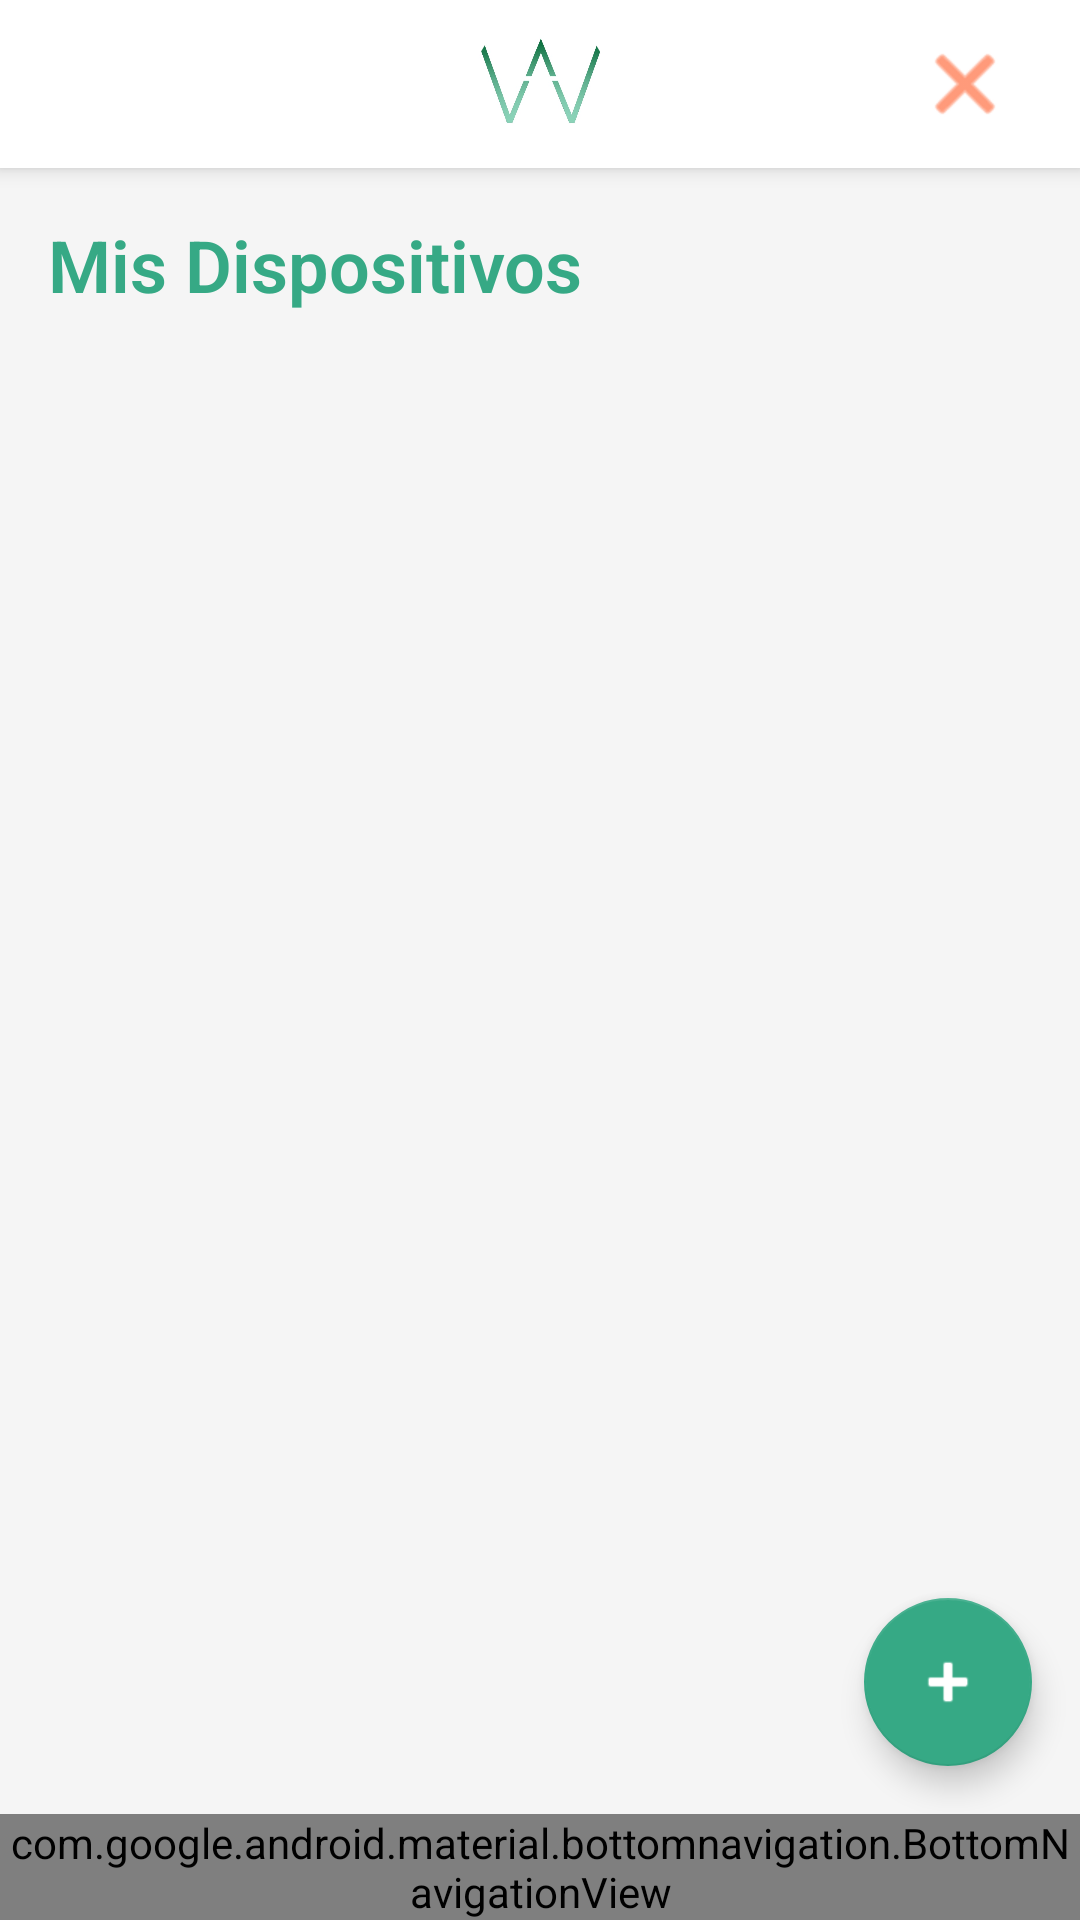

Named icons in this screenshot (1080 x 1920) and their centers, (x=x, y=y):
Añadir dispositivo: (x=948, y=1682)
Cerrar Sesión: (x=965, y=84)
